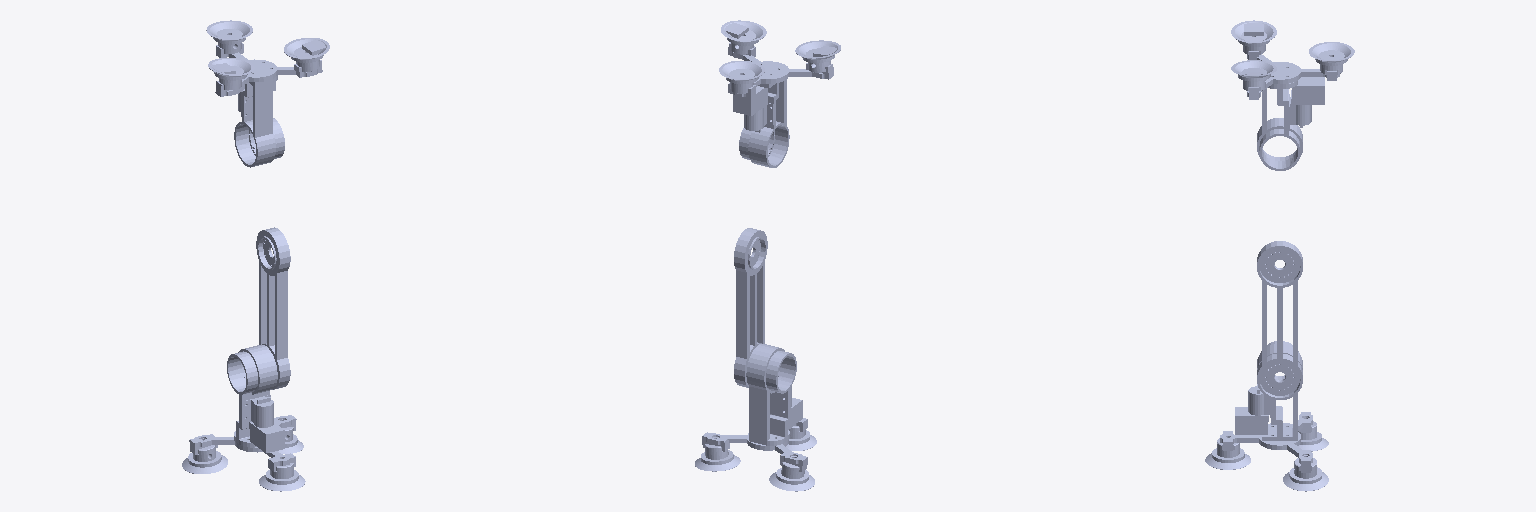
robot.urdf — bigmama0325:
<?xml version="1.0" encoding="utf-8"?>
<!-- This URDF was automatically created by SolidWorks to URDF Exporter! Originally created by [author] ([email redacted]) 
     Commit Version: 1.6.0-1-g15f4949  Build Version: 1.6.7594.29634
     For more information, please see http://wiki.ros.org/sw_urdf_exporter -->
<robot
  name="bigmama0325">
  <link
    name="Link_0">
    <inertial>
      <origin
        xyz="-0.0039908 -0.009769 0.036495"
        rpy="0 0 0" />
      <mass
        value="0.73165" />
      <inertia
        ixx="0.0014653"
        ixy="-1.2946E-05"
        ixz="1.4236E-05"
        iyy="0.0014114"
        iyz="-7.475E-06"
        izz="0.00098759" />
    </inertial>
    <visual>
      <origin
        xyz="0 0 0"
        rpy="0 0 0" />
      <geometry>
        <mesh
          filename="package://bigmama0325/meshes/Link_0.STL" />
      </geometry>
      <material
        name="">
        <color
          rgba="0.79216 0.81961 0.93333 1" />
      </material>
    </visual>
    <collision>
      <origin
        xyz="0 0 0"
        rpy="0 0 0" />
      <geometry>
        <mesh
          filename="package://bigmama0325/meshes/Link_0.STL" />
      </geometry>
    </collision>
  </link>
  <link
    name="Link_1">
    <inertial>
      <origin
        xyz="-3.3307E-16 0.12 0.014813"
        rpy="0 0 0" />
      <mass
        value="0.28238" />
      <inertia
        ixx="0.0027445"
        ixy="2.2065E-21"
        ixz="-6.0271E-21"
        iyy="0.00019508"
        iyz="-3.6395E-21"
        izz="0.0029159" />
    </inertial>
    <visual>
      <origin
        xyz="0 0 0"
        rpy="0 0 0" />
      <geometry>
        <mesh
          filename="package://bigmama0325/meshes/Link_1.STL" />
      </geometry>
      <material
        name="">
        <color
          rgba="0.79216 0.81961 0.93333 1" />
      </material>
    </visual>
    <collision>
      <origin
        xyz="0 0 0"
        rpy="0 0 0" />
      <geometry>
        <mesh
          filename="package://bigmama0325/meshes/Link_1.STL" />
      </geometry>
    </collision>
  </link>
  <joint
    name="Joint_1"
    type="revolute">
    <origin
      xyz="0.022 0 0.155"
      rpy="1.5708 0 1.5708" />
    <parent
      link="Link_0" />
    <child
      link="Link_1" />
    <axis
      xyz="0 0 -1" />
    <limit
      lower="-3.14"
      upper="3.14"
      effort="100"
      velocity="0.25" />
  </joint>
  <link
    name="Link_2">
    <inertial>
      <origin
        xyz="0 0.098184 -0.051898"
        rpy="0 0 0" />
      <mass
        value="0.34516" />
      <inertia
        ixx="0.0036332"
        ixy="3.111E-18"
        ixz="-4.7498E-19"
        iyy="0.00034405"
        iyz="0.00024115"
        izz="0.0037914" />
    </inertial>
    <visual>
      <origin
        xyz="0 0 0"
        rpy="0 0 0" />
      <geometry>
        <mesh
          filename="package://bigmama0325/meshes/Link_2.STL" />
      </geometry>
      <material
        name="">
        <color
          rgba="0.79216 0.81961 0.93333 1" />
      </material>
    </visual>
    <collision>
      <origin
        xyz="0 0 0"
        rpy="0 0 0" />
      <geometry>
        <mesh
          filename="package://bigmama0325/meshes/Link_2.STL" />
      </geometry>
    </collision>
  </link>
  <joint
    name="Joint_2"
    type="revolute">
    <origin
      xyz="0 0.24 0"
      rpy="0 0 0" />
    <parent
      link="Link_1" />
    <child
      link="Link_2" />
    <axis
      xyz="0 0 -1" />
    <limit
      lower="-3.14"
      upper="3.14"
      effort="100"
      velocity="0.25" />
  </joint>
  <link
    name="Link_3">
    <inertial>
      <origin
        xyz="0.018256 0.077688 0.029219"
        rpy="0 0 0" />
      <mass
        value="0.40524" />
      <inertia
        ixx="0.0010067"
        ixy="-1.0212E-05"
        ixz="-1.2958E-05"
        iyy="0.00027741"
        iyz="1.4235E-05"
        izz="0.0011025" />
    </inertial>
    <visual>
      <origin
        xyz="0 0 0"
        rpy="0 0 0" />
      <geometry>
        <mesh
          filename="package://bigmama0325/meshes/Link_3.STL" />
      </geometry>
      <material
        name="">
        <color
          rgba="0.79216 0.81961 0.93333 1" />
      </material>
    </visual>
    <collision>
      <origin
        xyz="0 0 0"
        rpy="0 0 0" />
      <geometry>
        <mesh
          filename="package://bigmama0325/meshes/Link_3.STL" />
      </geometry>
    </collision>
  </link>
  <joint
    name="Joint_3"
    type="revolute">
    <origin
      xyz="0 0.24 -0.0442"
      rpy="0 0 0" />
    <parent
      link="Link_2" />
    <child
      link="Link_3" />
    <axis
      xyz="0 0 1" />
    <limit
      lower="-3.14"
      upper="3.14"
      effort="100"
      velocity="0.25" />
  </joint>
  <link
    name="Link_4">
    <inertial>
      <origin
        xyz="-0.00076775 -1.9008E-05 -0.02422"
        rpy="0 0 0" />
      <mass
        value="0.32633" />
      <inertia
        ixx="0.00040432"
        ixy="1.2544E-08"
        ixz="-2.7228E-06"
        iyy="0.00036238"
        iyz="7.3014E-09"
        izz="0.00071013" />
    </inertial>
    <visual>
      <origin
        xyz="0 0 0"
        rpy="0 0 0" />
      <geometry>
        <mesh
          filename="package://bigmama0325/meshes/Link_4.STL" />
      </geometry>
      <material
        name="">
        <color
          rgba="0.79216 0.81961 0.93333 1" />
      </material>
    </visual>
    <collision>
      <origin
        xyz="0 0 0"
        rpy="0 0 0" />
      <geometry>
        <mesh
          filename="package://bigmama0325/meshes/Link_4.STL" />
      </geometry>
    </collision>
  </link>
  <joint
    name="Joint_4"
    type="revolute">
    <origin
      xyz="0 0.145 0.022"
      rpy="1.5708 0 0" />
    <parent
      link="Link_3" />
    <child
      link="Link_4" />
    <axis
      xyz="0 0 -1" />
    <limit
      lower="-0.0001"
      upper="0.0001"
      effort="0.0001"
      velocity="0.0001" />
  </joint>
  <link
    name="Link_innerfinger">
    <inertial>
      <origin
        xyz="-0.0141 -4.2244E-08 0.0035467"
        rpy="0 0 0" />
      <mass
        value="0.0087957" />
      <inertia
        ixx="1.1258E-06"
        ixy="-6.7983E-12"
        ixz="-4.8497E-08"
        iyy="6.8954E-07"
        iyz="-2.4226E-13"
        izz="1.7193E-06" />
    </inertial>
    <visual>
      <origin
        xyz="0 0 0"
        rpy="0 0 0" />
      <geometry>
        <mesh
          filename="package://bigmama0325/meshes/Link_innerfinger.STL" />
      </geometry>
      <material
        name="">
        <color
          rgba="0.79216 0.81961 0.93333 1" />
      </material>
    </visual>
    <collision>
      <origin
        xyz="0 0 0"
        rpy="0 0 0" />
      <geometry>
        <mesh
          filename="package://bigmama0325/meshes/Link_innerfinger.STL" />
      </geometry>
    </collision>
  </link>
  <joint
    name="Joint_innerfinger"
    type="prismatic">
    <origin
      xyz="-0.05 -0.083205 -0.053291"
      rpy="0 -0.078319 1.5708" />
    <parent
      link="Link_4" />
    <child
      link="Link_innerfinger" />
    <axis
      xyz="-1 0 0" />
    <limit
      lower="-0.002"
      upper="0.002"
      effort="50"
      velocity="0.005" />
  </joint>
  <link
    name="Link_exterfinger">
    <inertial>
      <origin
        xyz="-0.0141 -4.2244E-08 0.0035467"
        rpy="0 0 0" />
      <mass
        value="0.0087957" />
      <inertia
        ixx="1.1258E-06"
        ixy="-6.7983E-12"
        ixz="-4.8497E-08"
        iyy="6.8954E-07"
        iyz="-2.4226E-13"
        izz="1.7193E-06" />
    </inertial>
    <visual>
      <origin
        xyz="0 0 0"
        rpy="0 0 0" />
      <geometry>
        <mesh
          filename="package://bigmama0325/meshes/Link_exterfinger.STL" />
      </geometry>
      <material
        name="">
        <color
          rgba="0.79216 0.81961 0.93333 1" />
      </material>
    </visual>
    <collision>
      <origin
        xyz="0 0 0"
        rpy="0 0 0" />
      <geometry>
        <mesh
          filename="package://bigmama0325/meshes/Link_exterfinger.STL" />
      </geometry>
    </collision>
  </link>
  <joint
    name="Joint_exterfinger"
    type="prismatic">
    <origin
      xyz="-0.05 0.083205 -0.053291"
      rpy="0 -0.078319 -1.5708" />
    <parent
      link="Link_4" />
    <child
      link="Link_exterfinger" />
    <axis
      xyz="-1 0 0" />
    <limit
      lower="-0.002"
      upper="0.002"
      effort="50"
      velocity="0.005" />
  </joint>
</robot>

--- Facts derived from the render (not from the file) ---
The picture shows the robot from 3 angles, left to right: view 1: azimuth 30°, elevation 25°; view 2: azimuth 150°, elevation 25°; view 3: azimuth 270°, elevation 25°; orthographic projection.
Model bigmama0325 with 7 links and 6 joints (4 revolute, 2 prismatic), rooted at Link_0, posed all joints at 0.
Links seen in each view (by area): view 1: Link_0, Link_1, Link_4, Link_3; view 2: Link_0, Link_4, Link_1, Link_3; view 3: Link_0, Link_1, Link_4, Link_3.
Link boxes in pixels (<box>): Link_0: <box>182,344,305,491</box>; Link_1: <box>256,227,290,389</box>; Link_4: <box>206,20,329,96</box>; Link_3: <box>234,75,284,167</box>; Link_0: <box>695,344,816,491</box>; Link_4: <box>719,20,840,98</box>; Link_1: <box>734,228,767,387</box>; Link_3: <box>733,80,789,167</box>; Link_0: <box>1205,341,1328,491</box>; Link_1: <box>1257,241,1302,399</box>; Link_4: <box>1231,20,1354,99</box>; Link_3: <box>1257,77,1324,170</box>.
Size in the robot's own frame: 0.2553 by 0.289 by 0.8854 metres.
6 mesh visuals loaded from 7 distinct referenced files (6 binary STL); not drawn: 1 (reference not matched to a file when rendering).
